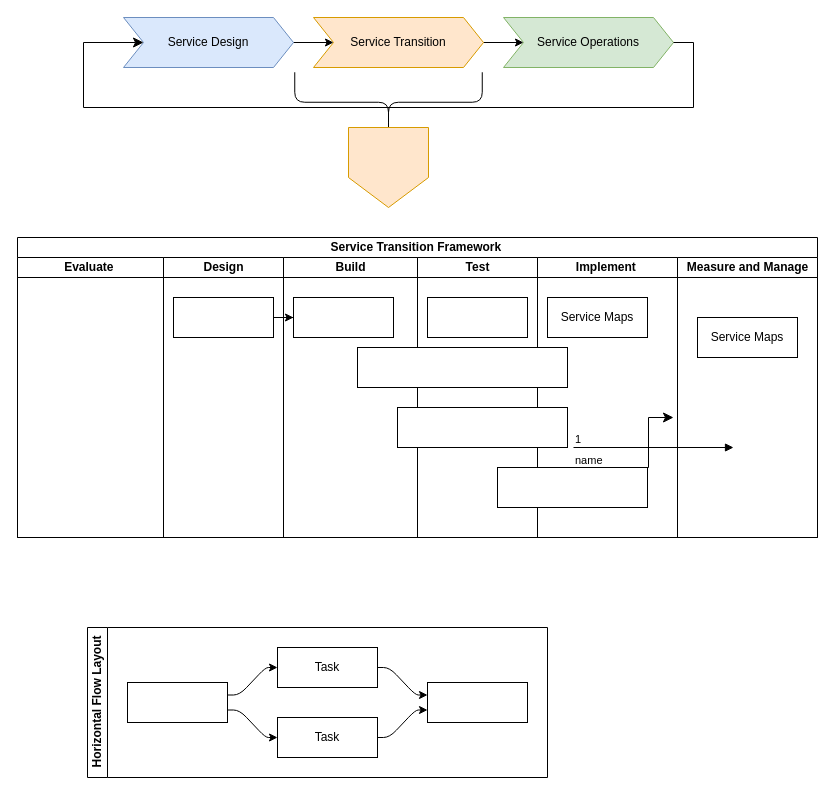
Some shapes in this 835 by 795 pixel diagram are drawn without their labels. Here are the shapes that lost their labels. From the top down, the centre of each, then its label:
the point at 223,317: Support Plan
the point at 343,317: Project Plan Comms
the point at 477,317: Acceptance Test
the point at 462,367: KT and Support Document
the point at 482,427: Change Evaluation
the point at 572,487: Production Acceptance Checklist
the point at 177,702: Start
the point at 477,702: End
